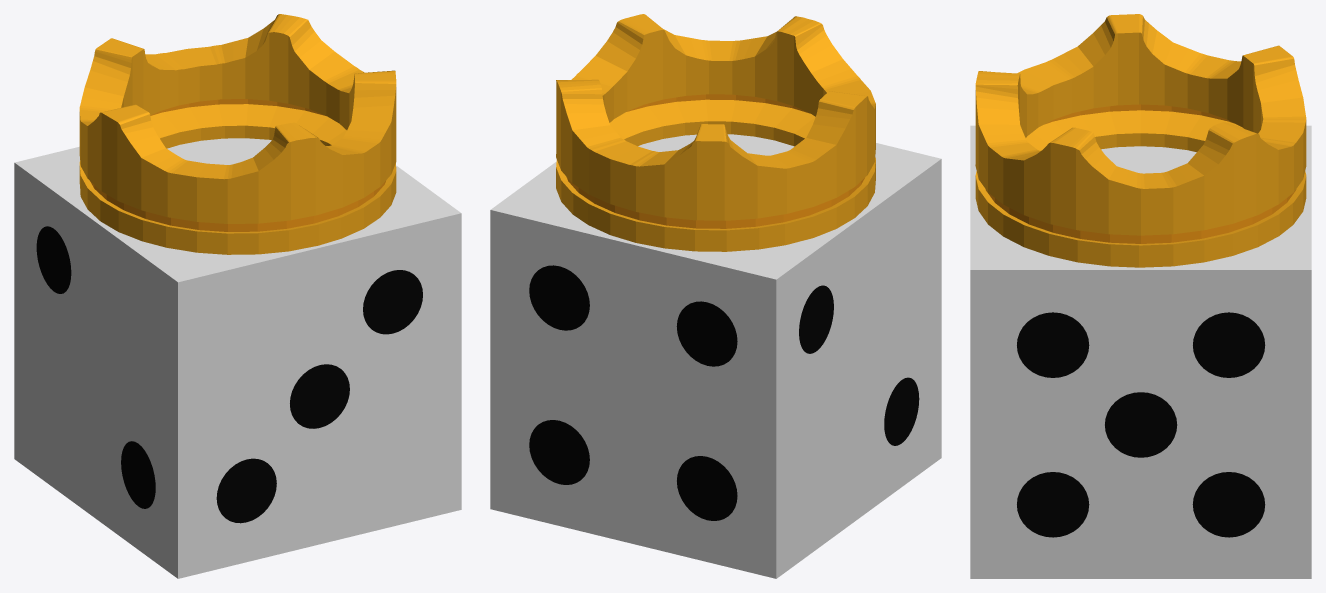
The model's file is KingDice.glb.
3 views of the same model, side by side, from view 1: azimuth 30°, elevation 25°; view 2: azimuth 150°, elevation 25°; view 3: azimuth 270°, elevation 25° (orthographic). The views are drawn at different scales.
Visible parts, largest first — view 1: Cube, Cylinder.002, Cylinder.004, Circle3, Circle2, Cylinder.003; view 2: Cube, Cylinder.002, Cylinder.004, Circle4, Circle2, Cylinder.003; view 3: Cube, Cylinder.002, Circle5, Cylinder.004, Cylinder.003.
Boxes of the visible parts, x1,y1,x2,y2 form: Cube: (14,138,461,578); Cylinder.002: (79,14,396,223); Cylinder.004: (79,104,396,254); Circle3: (216,270,422,523); Circle2: (36,226,155,508); Cylinder.003: (90,99,385,231); Cube: (490,134,941,578); Cylinder.002: (556,14,875,220); Cylinder.004: (556,99,875,251); Circle4: (529,265,737,520); Circle2: (799,285,919,445); Cylinder.003: (566,94,864,228); Cube: (970,125,1311,578); Cylinder.002: (975,14,1306,235); Circle5: (1017,312,1265,537); Cylinder.004: (975,110,1306,267); Cylinder.003: (985,104,1296,243).
Bounding box in the file's own units: 348 × 477 × 348.
